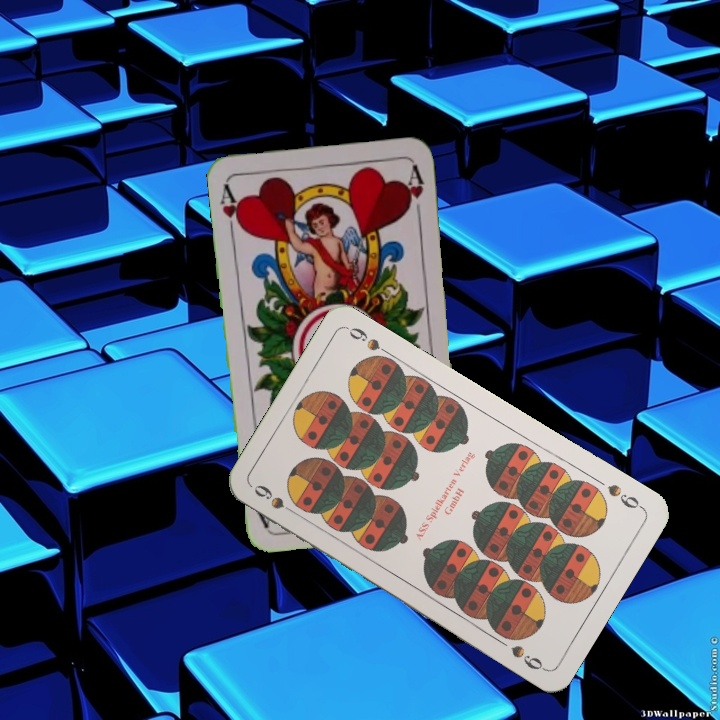HA: (216, 179, 246, 238)
S9: (250, 480, 302, 519), (603, 479, 646, 512)
